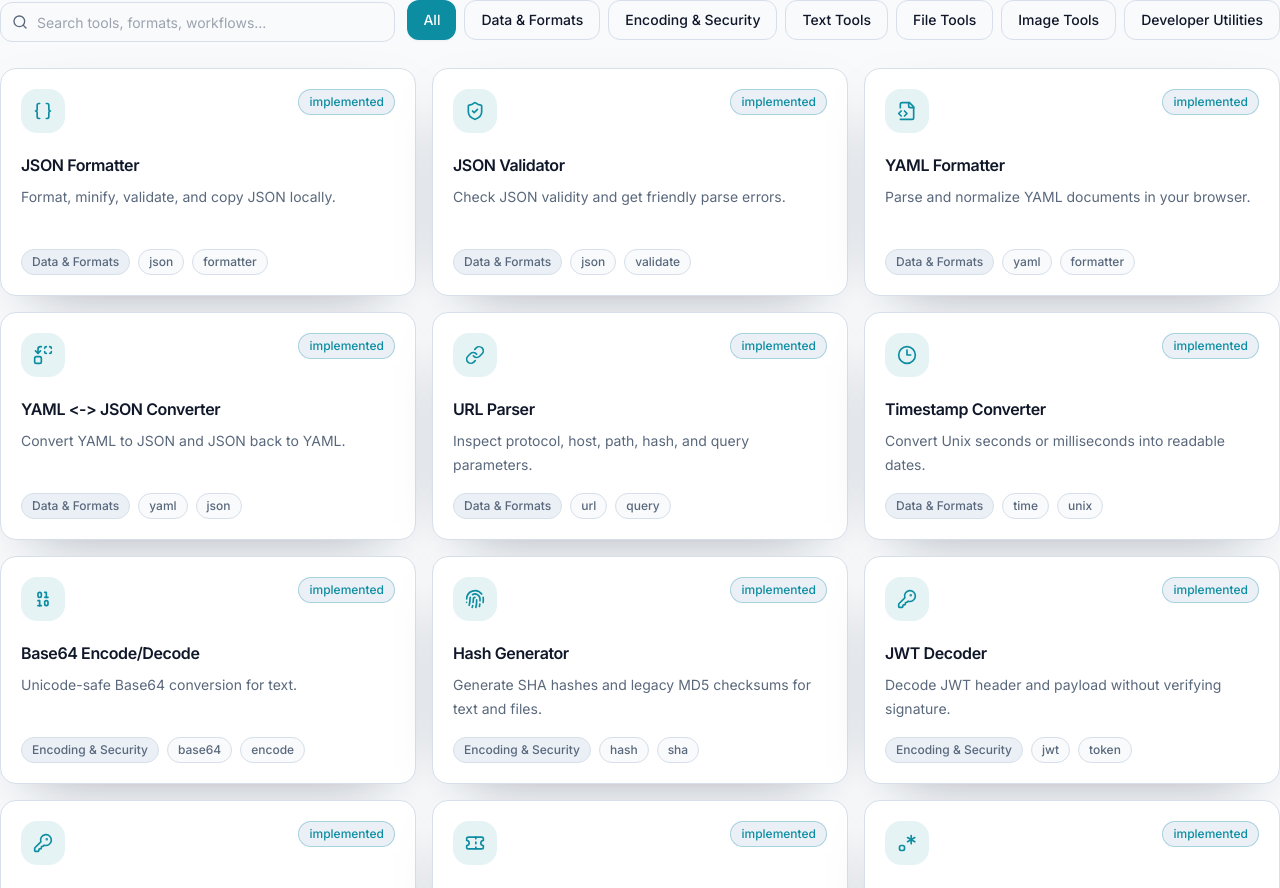
Test case: ToolSearch › shows an empty state when nothing matches
Type "zzzzzzz" into the field with placeholder "Search tools, formats, workflows...".
click(198, 22); type("zzzzzzz")  # box [0,2,395,42]
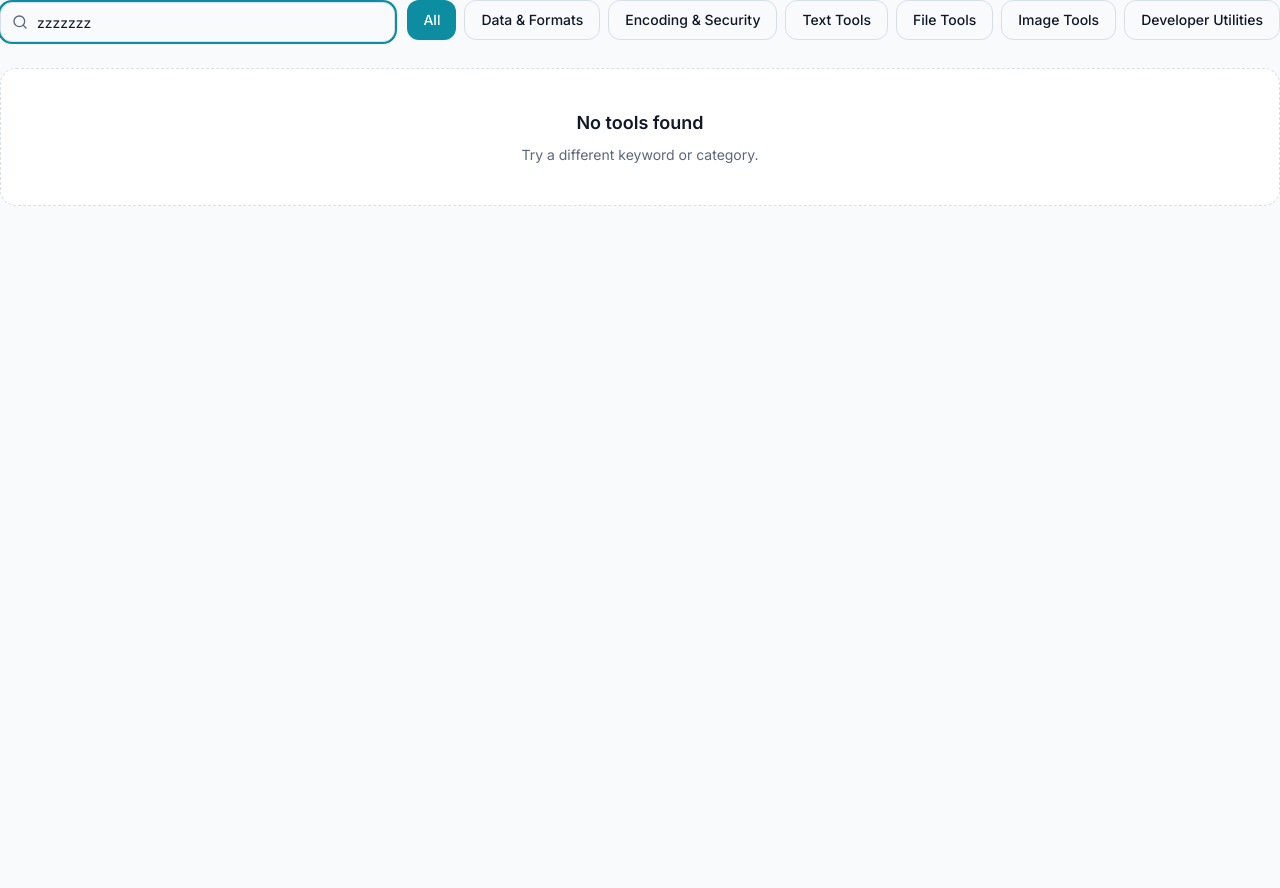
Now the heading "No tools found" is shown, box [576,112,704,133]
Now the link "JSON Formatter" is gone
